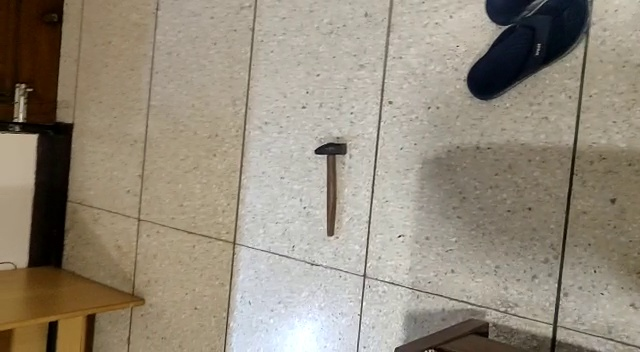hammer: (312, 142, 349, 239)
